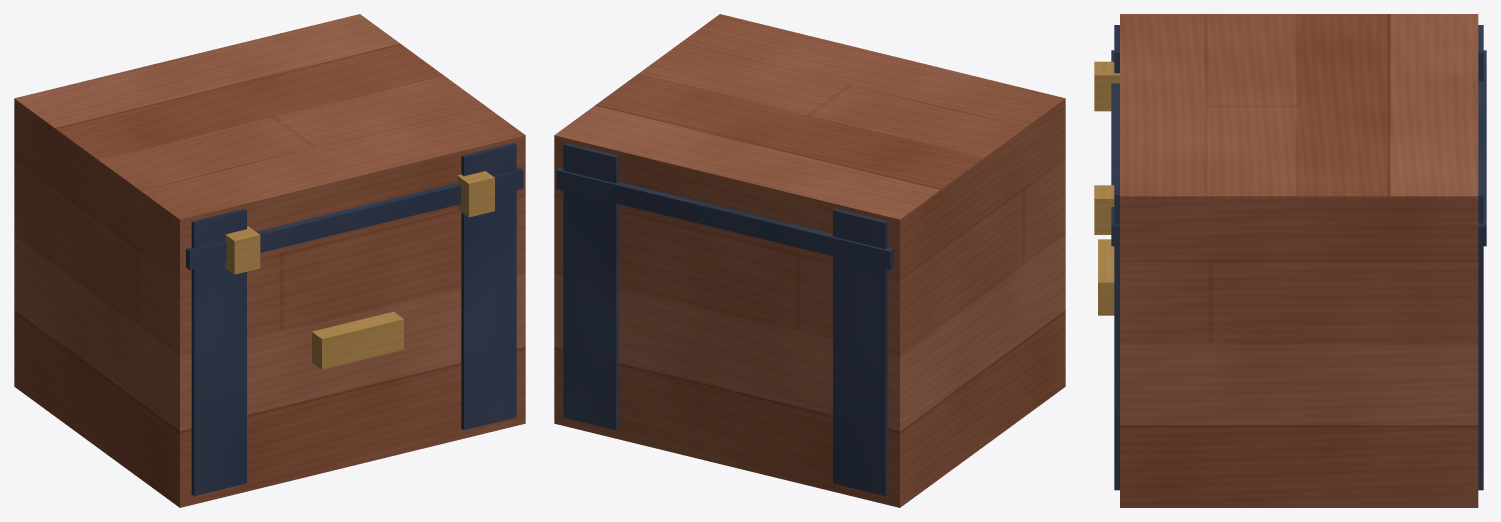
File: SM_Theater_Prop_CaseSmall.fbx
3 renders of one model, left to right at view 1: azimuth 30°, elevation 25°; view 2: azimuth 150°, elevation 25°; view 3: azimuth 270°, elevation 25°, orthographic. The views are drawn at different scales.
Parts seen in each view (by area): view 1: SM_Theater_Prop_CaseSmall_LOD0; view 2: SM_Theater_Prop_CaseSmall_LOD0; view 3: SM_Theater_Prop_CaseSmall_LOD0.
Part boxes in pixels (x1=…): SM_Theater_Prop_CaseSmall_LOD0: x1=14, y1=14, x2=525, y2=507; SM_Theater_Prop_CaseSmall_LOD0: x1=554, y1=14, x2=1065, y2=507; SM_Theater_Prop_CaseSmall_LOD0: x1=1094, y1=14, x2=1486, y2=507.
Size of what is drawn, in the model's own units: 1.18 by 0.94 by 1.07.
